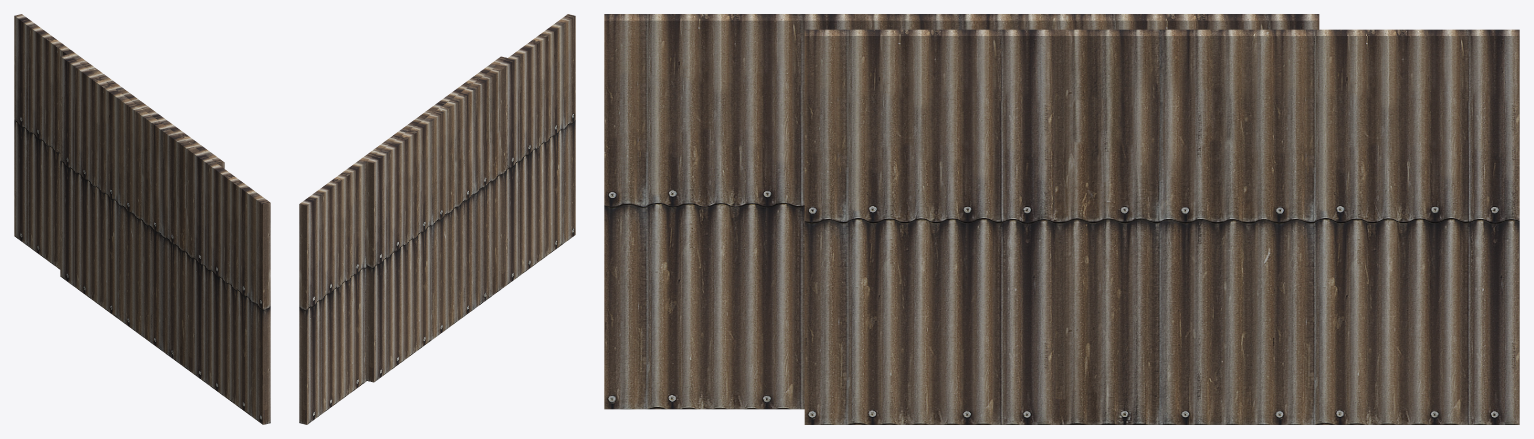
The model's file is metal_plates_lod.fbx.
3 renders of one model, left to right at view 1: azimuth 30°, elevation 25°; view 2: azimuth 150°, elevation 25°; view 3: azimuth 270°, elevation 25°, orthographic. The views are drawn at different scales.
Visible parts, largest first — view 1: Mesh Object; view 2: Mesh Object; view 3: Mesh Object.
Part boxes in pixels (x1,y1,x2,y2): Mesh Object: (14,14,270,424); Mesh Object: (299,14,575,424); Mesh Object: (604,14,1519,424).
Size of the model in its own units: 0.1342 by 1.59 by 3.33.
